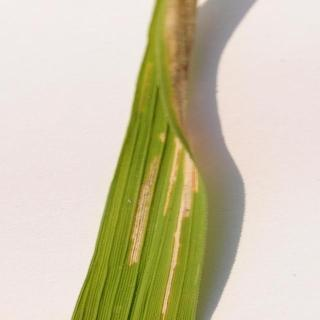Hawar-Daun: (153, 140, 216, 303), (146, 8, 200, 133), (118, 145, 157, 291)
